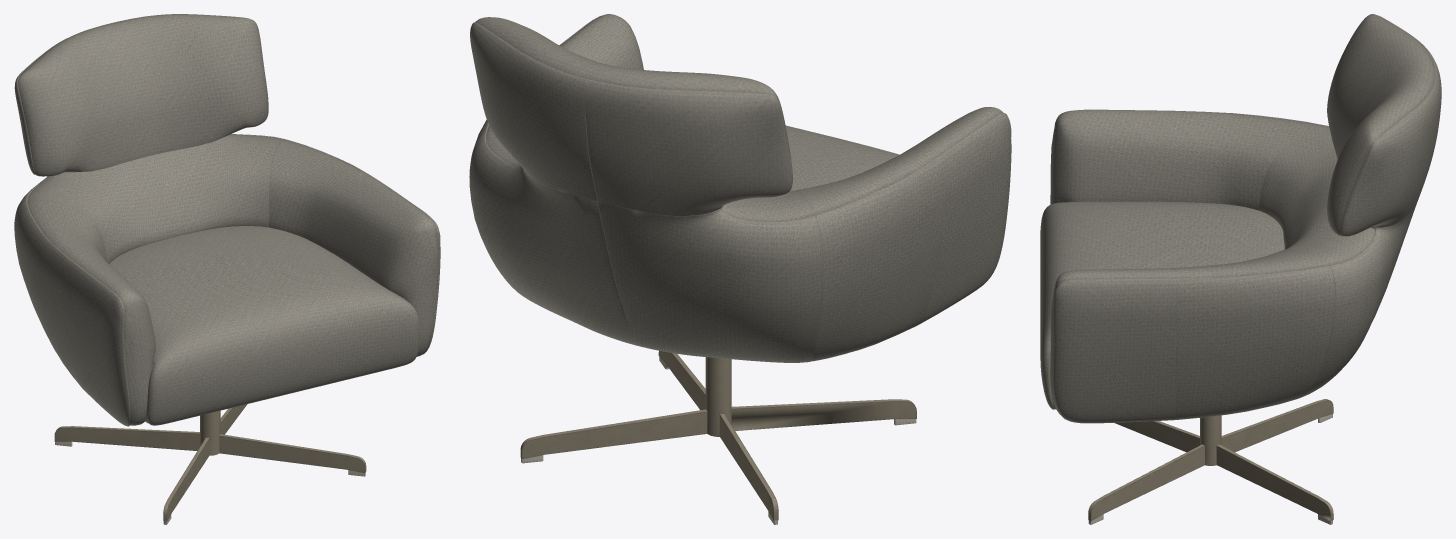
File: abo-b07qgsz38g.baf54a24f9.ar.glb
3 views of the same model, side by side, from view 1: azimuth 30°, elevation 25°; view 2: azimuth 150°, elevation 25°; view 3: azimuth 270°, elevation 25° (orthographic). The views are drawn at different scales.
Parts seen in each view (by area): view 1: RootNode; view 2: RootNode; view 3: RootNode.
Boxes of the visible parts, x1,y1,x2,y2 form: RootNode: (14,14,440,524); RootNode: (469,14,1011,524); RootNode: (1040,14,1441,524).
Bounding box in the file's own units: 0.76 × 0.81 × 0.73.
Materials: 1 (1 with a texture image).
